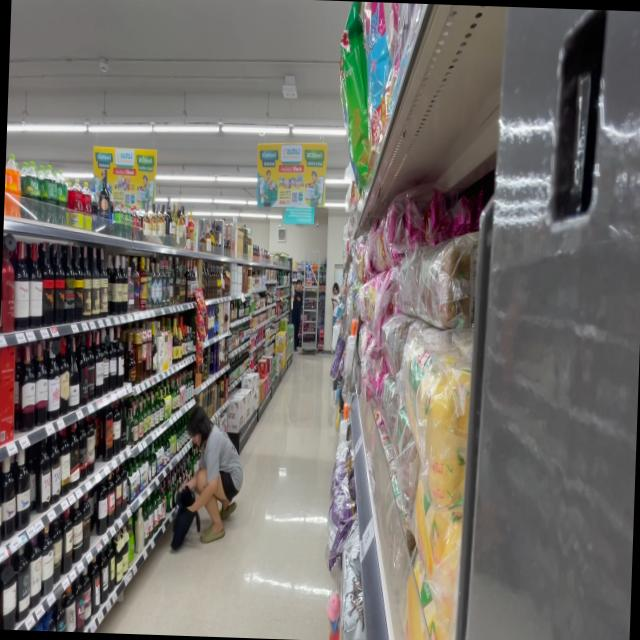shoplifting: (168, 393, 242, 550)
